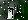person: (10, 5, 18, 19)
